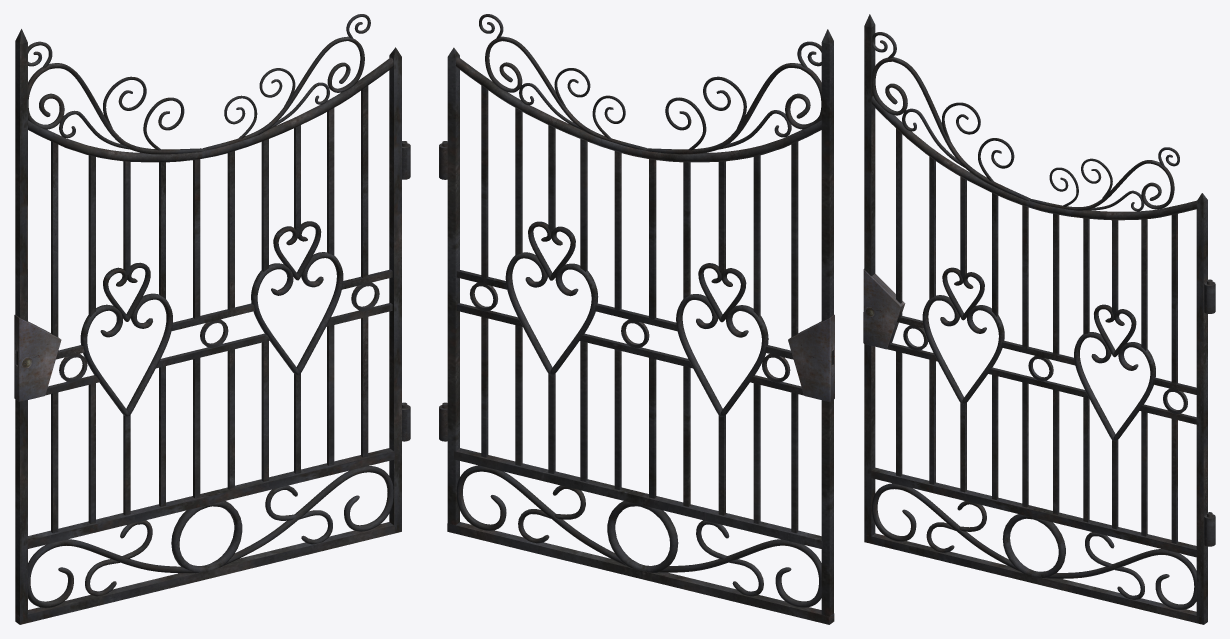
The model's file is PuertaIzq.obj.
The picture shows the model from 3 angles, left to right: view 1: azimuth 30°, elevation 25°; view 2: azimuth 150°, elevation 25°; view 3: azimuth 330°, elevation 25°; orthographic projection. The views are drawn at different scales.
Parts seen in each view (by area): view 1: PuertaIzq; view 2: PuertaIzq; view 3: PuertaIzq.
Part boxes in pixels (x1,y1,x2,y2): PuertaIzq: (14,14,410,624); PuertaIzq: (439,14,834,624); PuertaIzq: (863,14,1215,624).
Size of the model in its own units: 7.59 by 10.95 by 0.2172.
